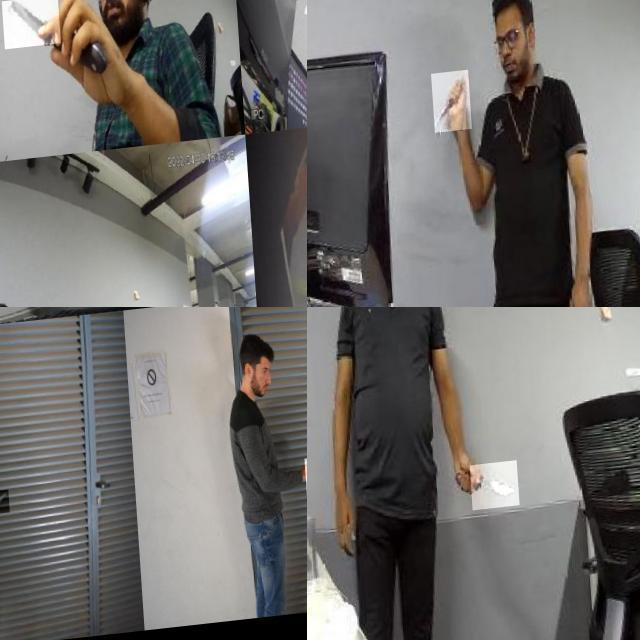-: (0, 0, 57, 51), (427, 76, 467, 138), (0, 307, 42, 366), (464, 466, 513, 516), (298, 468, 307, 522), (0, 494, 13, 519)
